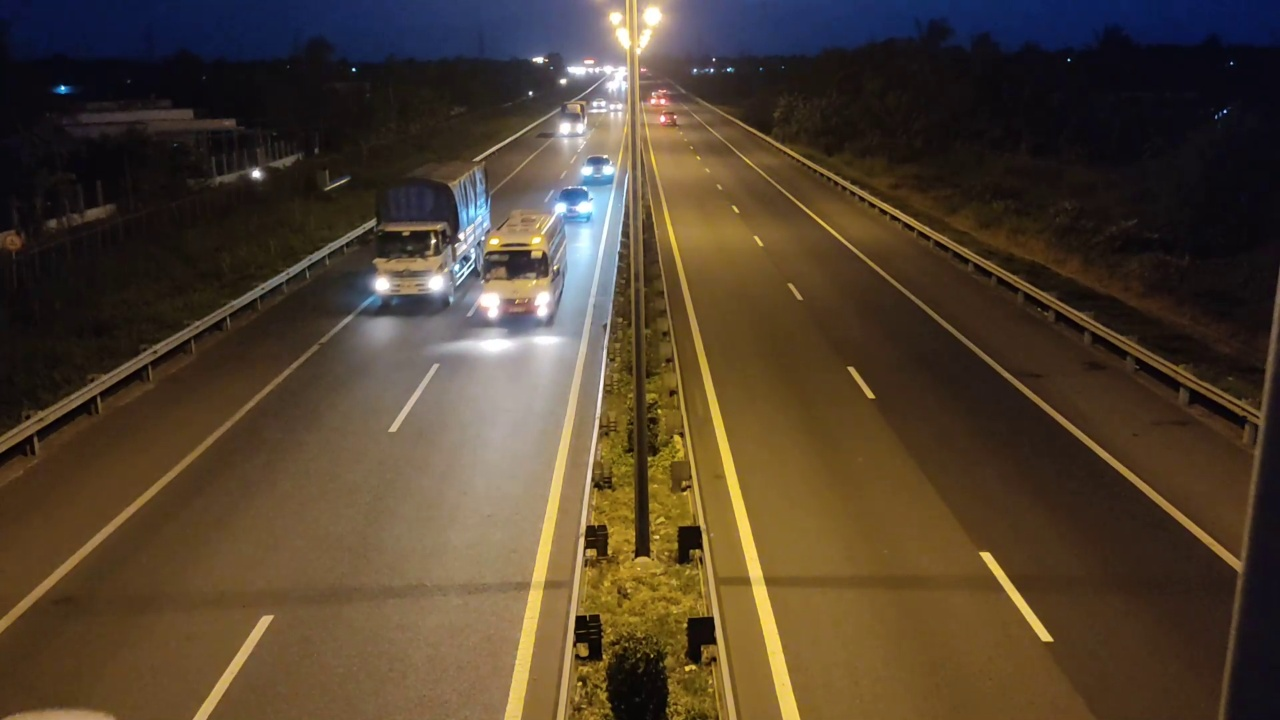bus: (477, 210, 566, 327)
car: (548, 185, 594, 221), (580, 155, 616, 183)
truck: (371, 159, 493, 315)
